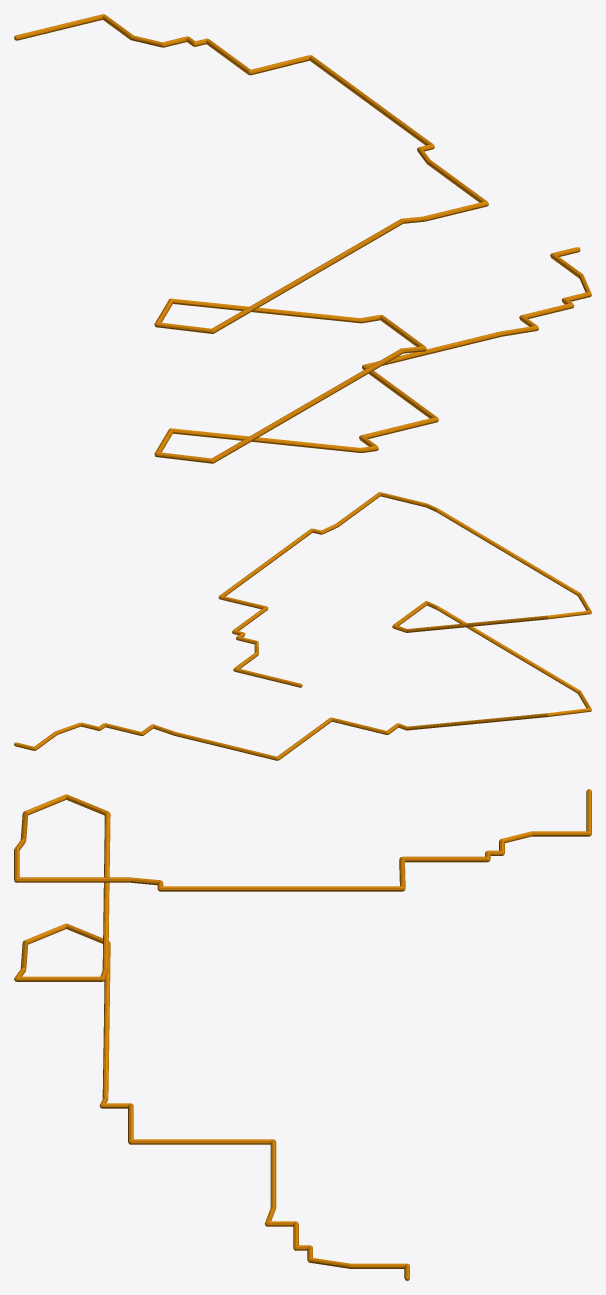
3 views of the same model, one above another, from view 1: azimuth 30°, elevation 25°; view 2: azimuth 150°, elevation 25°; view 3: azimuth 270°, elevation 25° (orthographic). The views are drawn at different scales.
Size of the model in its own units: 2406 by 1020 by 2028.
